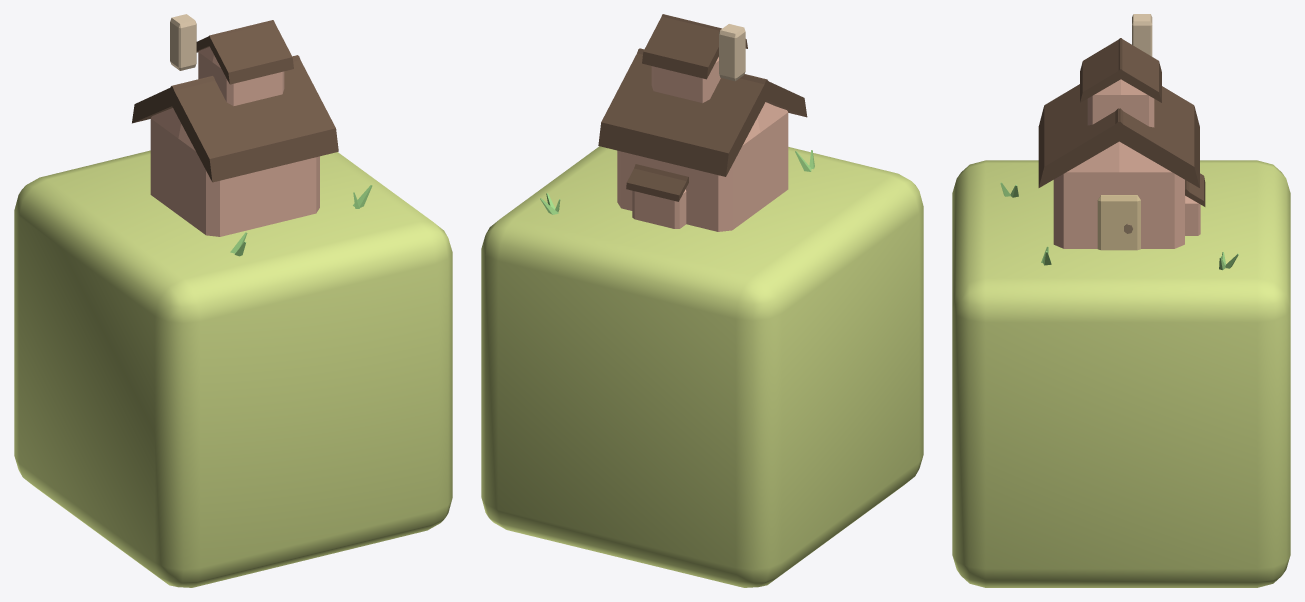
Rendered from village4.fbx.
3 renders of one model, left to right at view 1: azimuth 30°, elevation 25°; view 2: azimuth 150°, elevation 25°; view 3: azimuth 270°, elevation 25°, orthographic.
Visible parts, largest first — view 1: Cube.127, Cube.115, Cube.123, Cube.128, Cube.125, Cube.114; view 2: Cube.127, Cube.115, Cube.123, Cube.128, Cube.125, Cube.129, Cube.126, Cube.114; view 3: Cube.127, Cube.115, Cube.123, Cube.128, Cube.117, Cube.125, Cube.114, Cube.129.
Part boxes in pixels (x1,y1,x2,y2): Cube.127: [14, 150, 452, 587]; Cube.115: [132, 55, 338, 182]; Cube.123: [150, 108, 319, 236]; Cube.128: [196, 20, 293, 84]; Cube.125: [198, 46, 284, 105]; Cube.114: [170, 14, 196, 70]; Cube.127: [481, 146, 923, 587]; Cube.115: [598, 48, 807, 176]; Cube.123: [617, 102, 788, 231]; Cube.128: [642, 14, 747, 79]; Cube.125: [651, 57, 720, 102]; Cube.129: [632, 189, 686, 228]; Cube.126: [626, 164, 688, 201]; Cube.114: [719, 24, 745, 81]; Cube.127: [952, 160, 1290, 587]; Cube.115: [1038, 84, 1199, 187]; Cube.123: [1053, 141, 1184, 248]; Cube.128: [1080, 38, 1161, 102]; Cube.117: [1097, 195, 1140, 250]; Cube.125: [1087, 79, 1154, 127]; Cube.114: [1132, 14, 1152, 56]; Cube.129: [1185, 195, 1200, 235].
Size of the model in its own units: 200 by 320 by 200.
